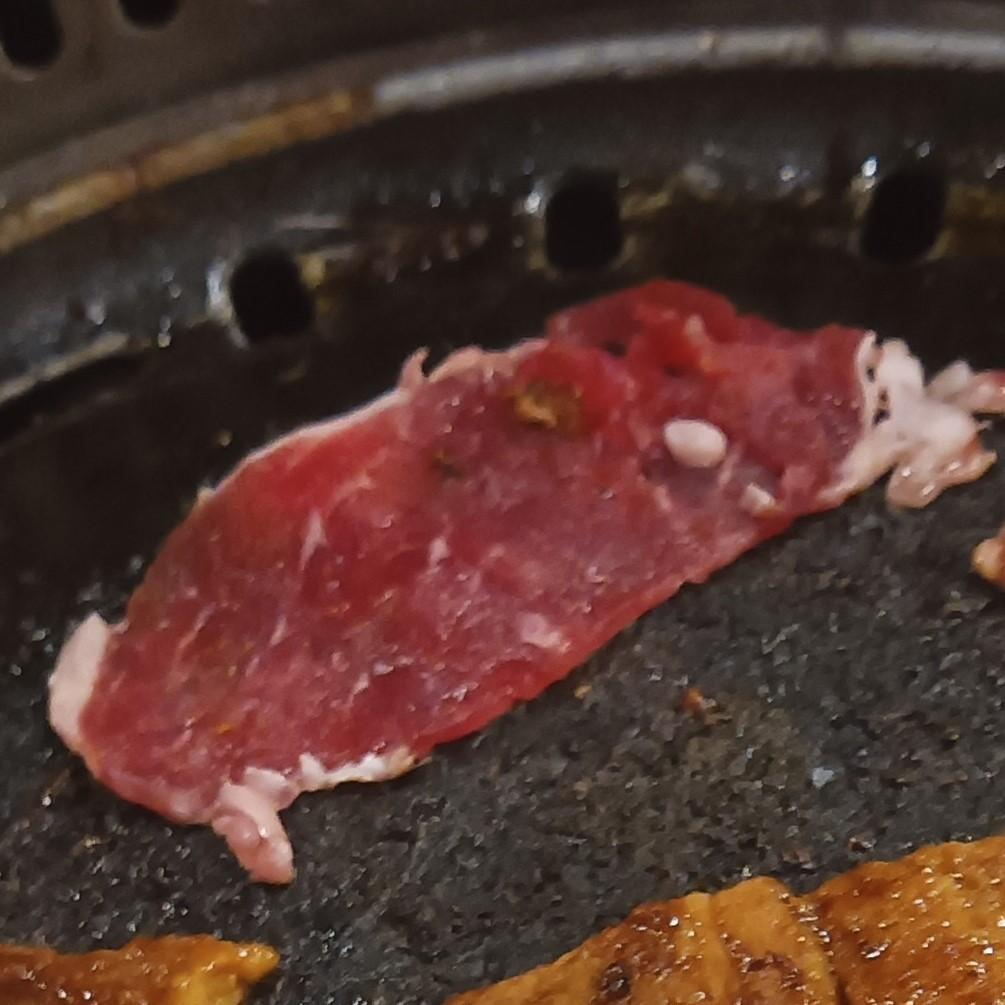Undercooked: (48, 280, 1004, 883)
